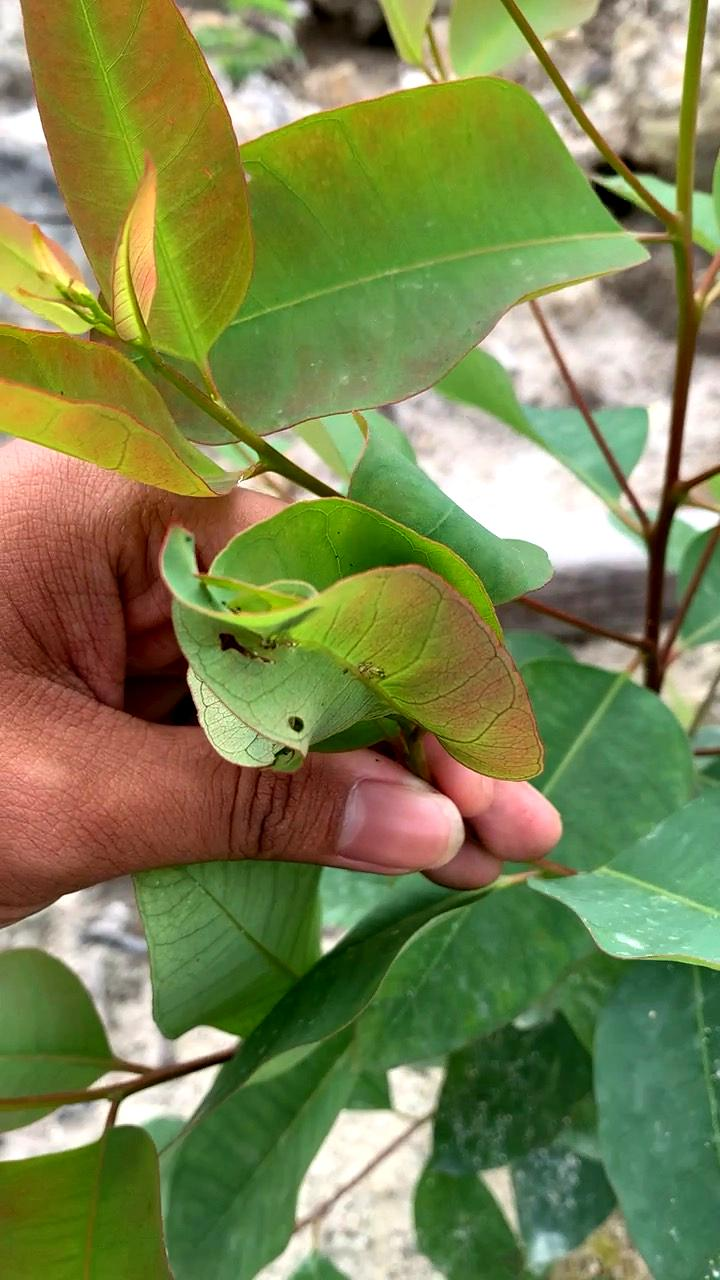Leaf Roller - Leaf: (155, 465, 558, 828)
